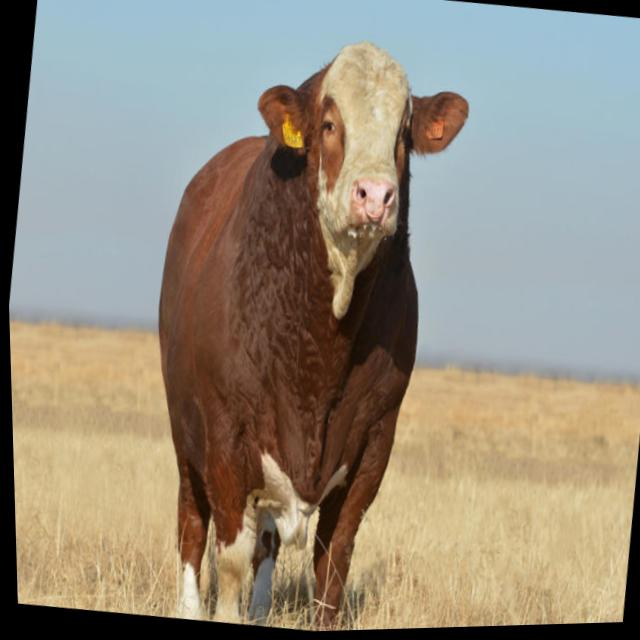cowFace: (213, 0, 494, 311)
